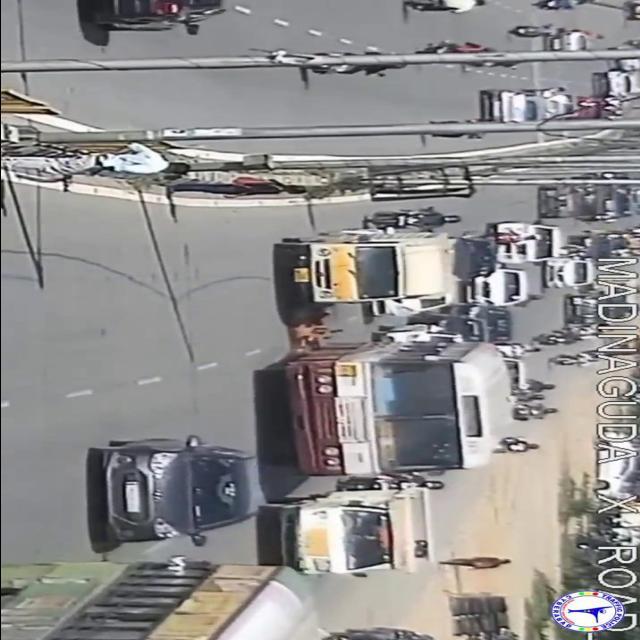accident: (258, 225, 514, 473)
non_accident: (459, 175, 617, 312), (472, 63, 640, 123)
